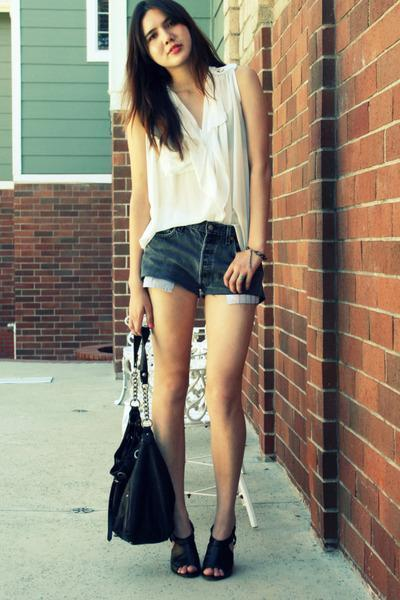bag: (107, 327, 176, 544)
shirt: (140, 67, 260, 243)
shoe: (170, 523, 236, 580)
shorts: (138, 221, 273, 309)
